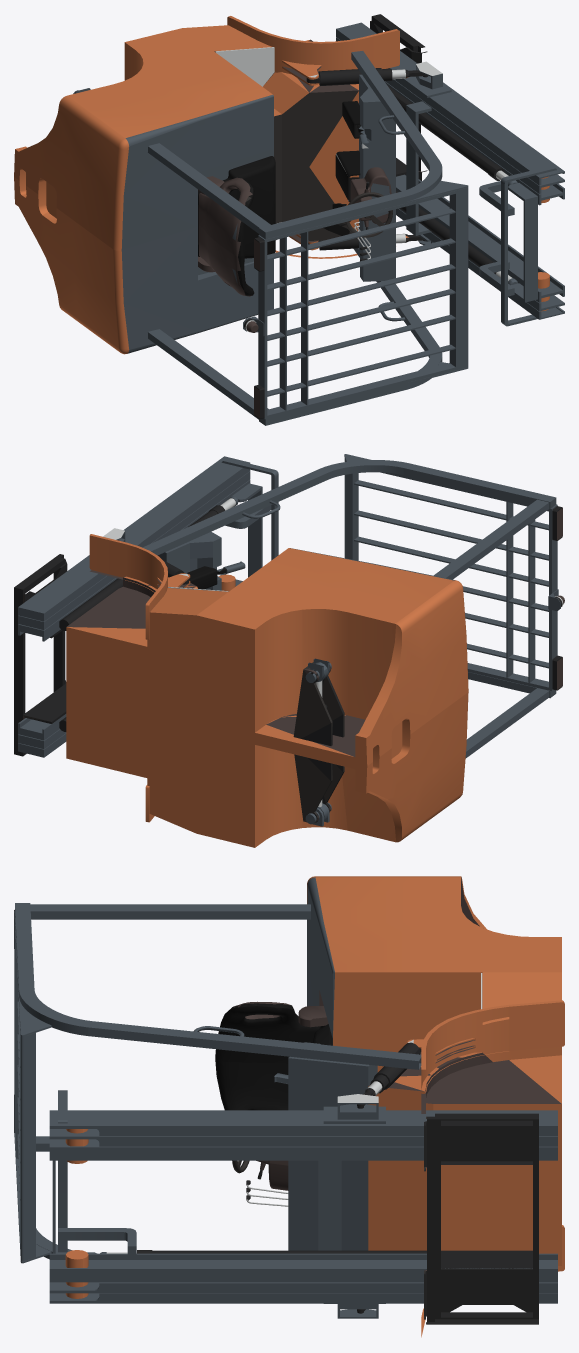
Rendered from body.obj.
3 views of the same model, one above another, from view 1: azimuth 30°, elevation 25°; view 2: azimuth 150°, elevation 25°; view 3: azimuth 270°, elevation 25° (orthographic). The views are drawn at different scales.
Bounding box in the file's own units: 1.9 × 1.09 × 2.03.
